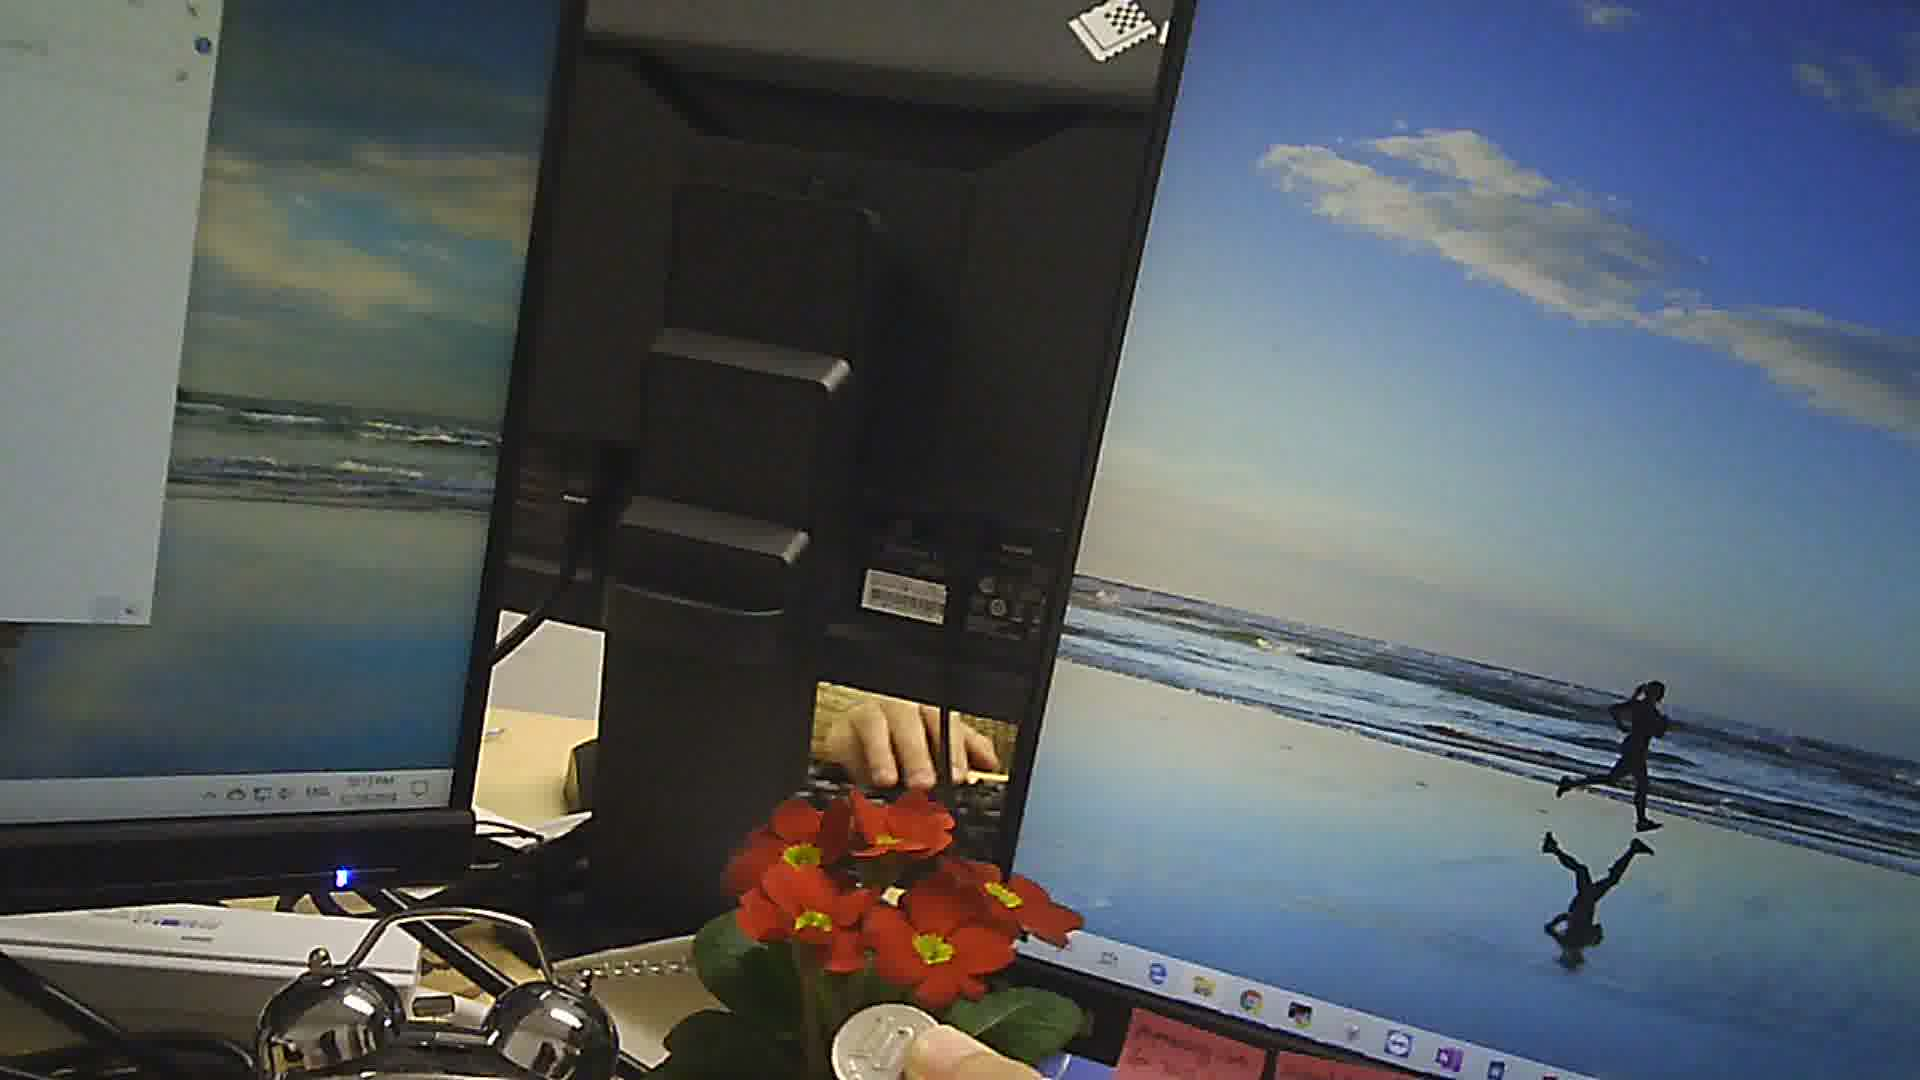100 Yen: (825, 1002, 943, 1079)
